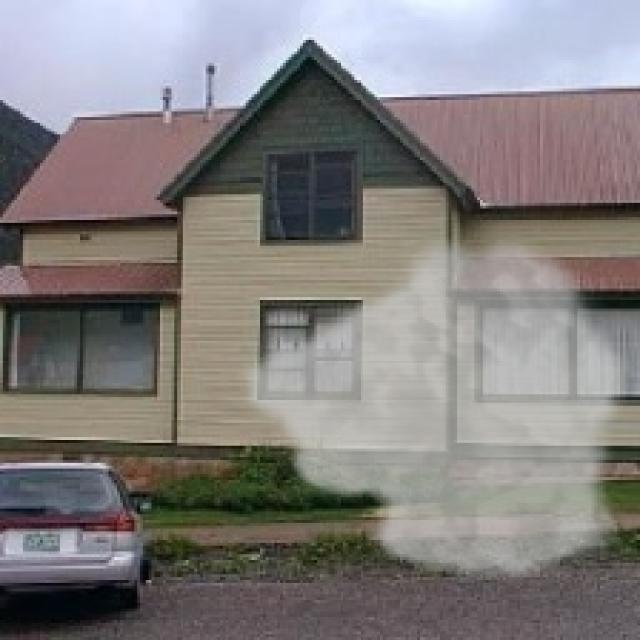Smoke: (234, 228, 632, 586)
